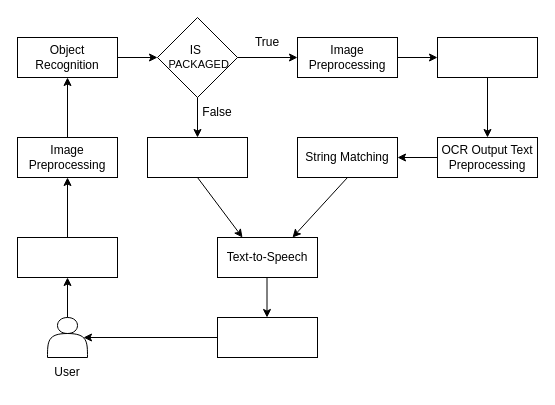
This 555x405 diagram has some shape labels left out. Each missing label, with the box of its shape:
Audio Output: (216, 316, 318, 358)
Image Capture: (16, 236, 118, 278)
Optical Character Recognition: (436, 36, 538, 78)
Return Class Name: (146, 136, 248, 178)
